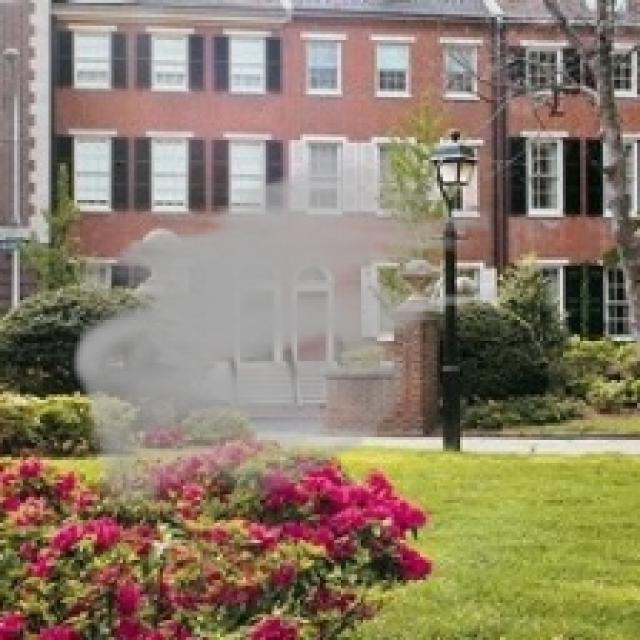Smoke: (72, 152, 494, 508)
